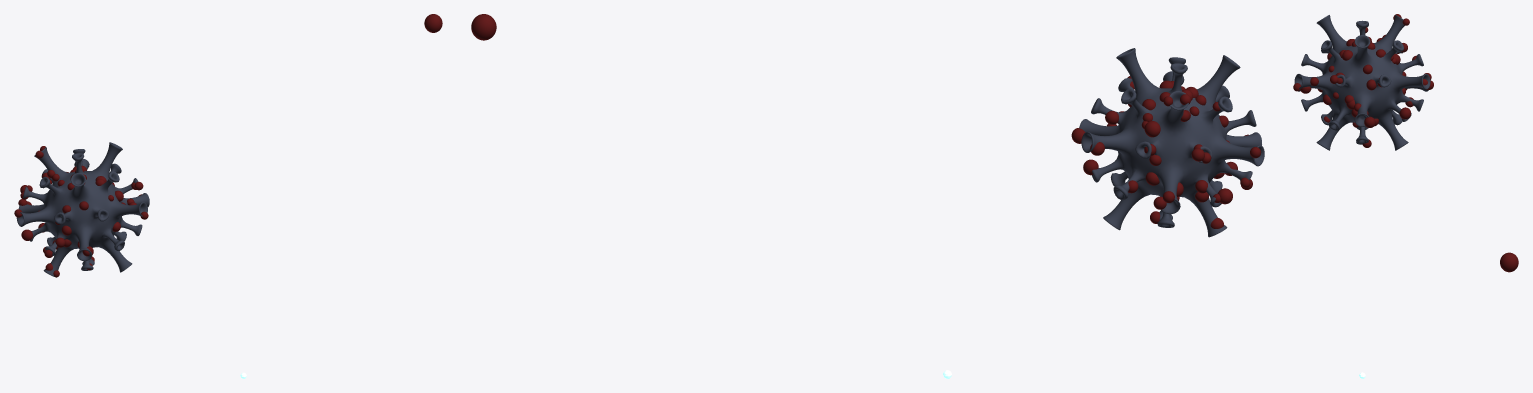
Rendered from ExportedBlenderFBXFile.fbx.
3 views of the same model, side by side, from view 1: azimuth 30°, elevation 25°; view 2: azimuth 150°, elevation 25°; view 3: azimuth 270°, elevation 25° (orthographic). The views are drawn at different scales.
Visible parts, largest first — view 1: Icosphere; view 2: Icosphere; view 3: Icosphere, Icosphere.013.
Boxes of the visible parts, x1,y1,x2,y2 form: Icosphere: (16,142,149,277); Icosphere: (1079,48,1264,237); Icosphere: (1294,15,1430,150); Icosphere.013: (1500,252,1518,272).
Size of the model in its own units: 8.38 by 4.33 by 3.2.
